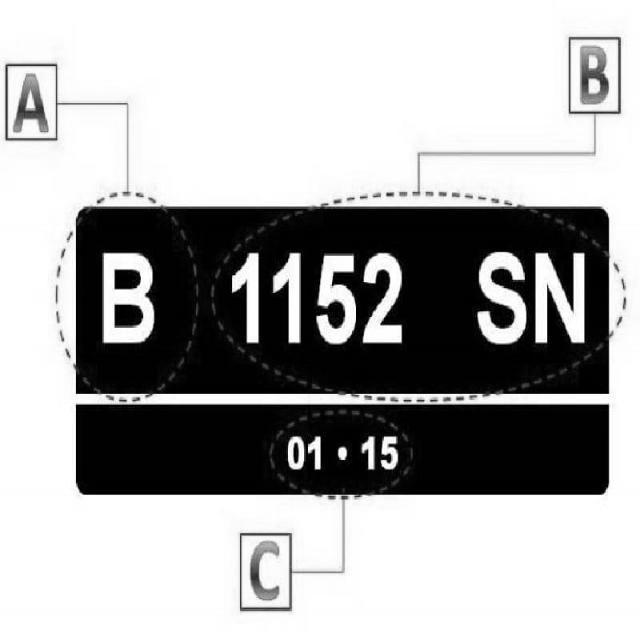1: (218, 245, 264, 366), (270, 233, 306, 380)
2: (360, 245, 410, 378)
5: (310, 250, 360, 372)
B: (93, 238, 165, 384)
N: (526, 246, 592, 361)
S: (470, 248, 532, 356)
